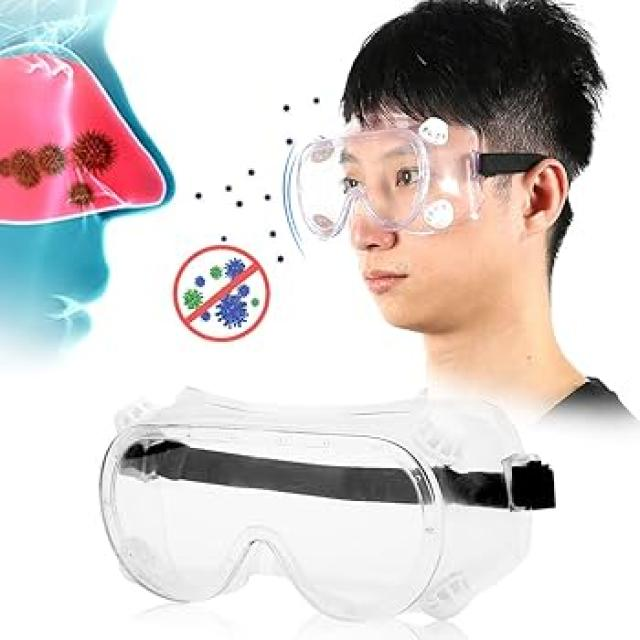goggles_on: (91, 380, 565, 628), (288, 108, 574, 250)
